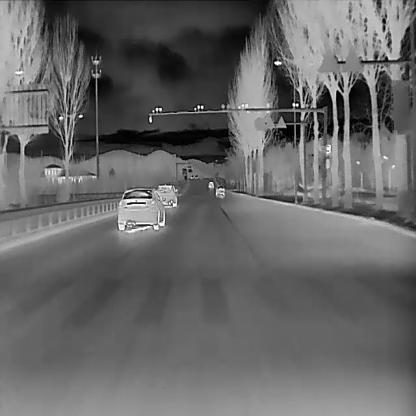car: (115, 184, 166, 230), (156, 182, 178, 206), (214, 184, 225, 196), (207, 180, 214, 188), (194, 174, 198, 179), (190, 174, 193, 178)
